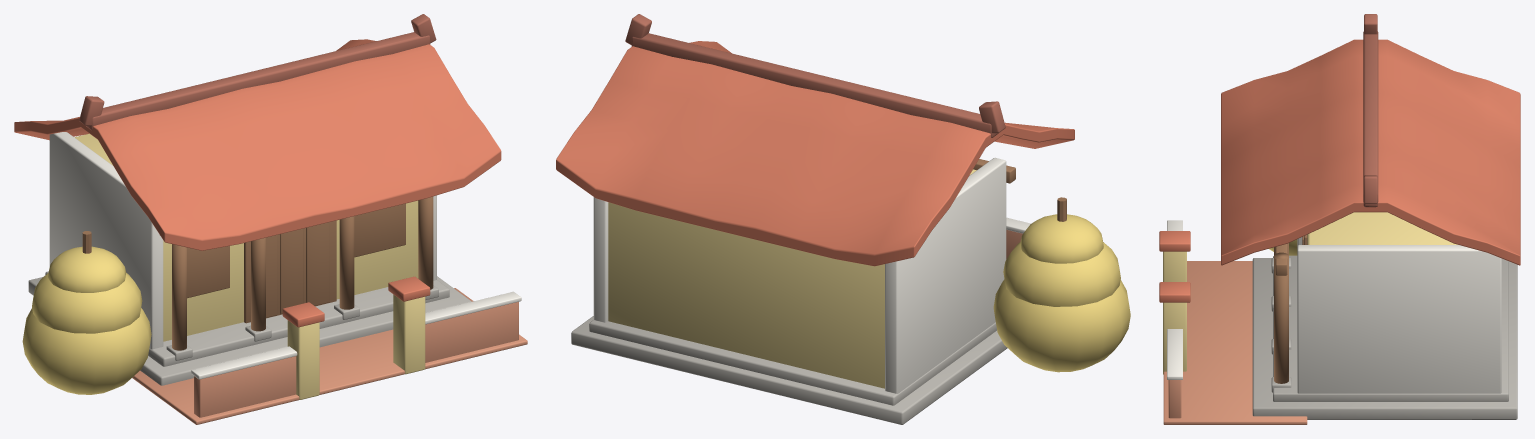
File: village_house.glb
3 views of the same model, side by side, from view 1: azimuth 30°, elevation 25°; view 2: azimuth 150°, elevation 25°; view 3: azimuth 270°, elevation 25° (orthographic). The views are drawn at different scales.
Parts seen in each view (by area): view 1: CurvedVietnameseRoof, Cylinder, Sphere, GablePillar_-2.72, Courtyard, MainWall, BaseStep1, RoofRidgeBeam; view 2: CurvedVietnameseRoof, MainWall, GablePillar_-2.72, Sphere, BaseStep1, RoofRidgeBeam; view 3: CurvedVietnameseRoof, GablePillar_-2.72, BaseStep1, Courtyard, MainWall, RoofRidgeBeam, Cylinder.
Part boxes in pixels (box(x1,y1,x2,y2)): CurvedVietnameseRoof: box(14, 39, 501, 327); Cylinder: box(82, 196, 433, 350); Sphere: box(22, 246, 151, 394); GablePillar_-2.72: box(49, 132, 521, 379); Courtyard: box(132, 288, 527, 424); MainWall: box(74, 133, 425, 399); BaseStep1: box(28, 271, 471, 385); RoofRidgeBeam: box(79, 14, 436, 130); CurvedVietnameseRoof: box(556, 41, 1074, 266); MainWall: box(608, 169, 976, 388); GablePillar_-2.72: box(593, 157, 1030, 393); Sphere: box(993, 214, 1130, 372); BaseStep1: box(571, 316, 1007, 424); RoofRidgeBeam: box(625, 14, 1005, 137); CurvedVietnameseRoof: box(1159, 39, 1520, 302); GablePillar_-2.72: box(1167, 220, 1501, 393); BaseStep1: box(1252, 255, 1517, 419); Courtyard: box(1163, 261, 1307, 424); MainWall: box(1163, 212, 1457, 374); RoofRidgeBeam: box(1363, 14, 1378, 207); Cylinder: box(1274, 235, 1307, 383).
Size of the model in its own units: 8.61 by 4.93 by 6.27.
